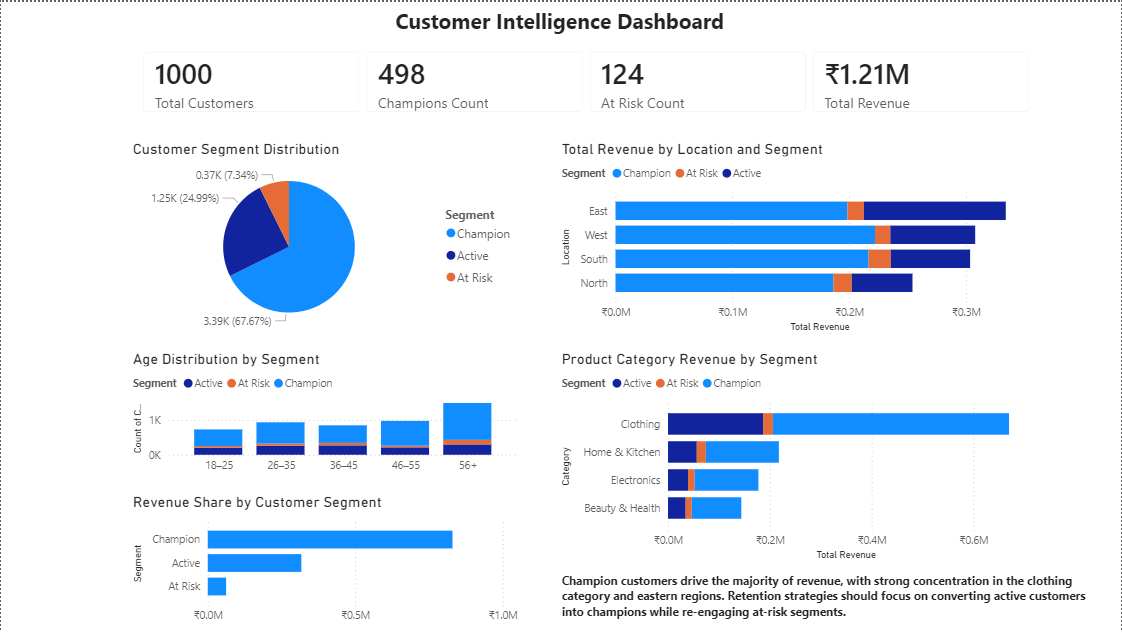

The page's visual inventory and layout, read from the dashboard file:
{"tool":"powerbi","page":{"name":"Page 1","canvas":[1280,720],"ordinal":0},"visuals":[{"type":"pieChart","title":"Customer Segment Distribution","fields":{"Category":["sales_transaction.Segment"],"Y":["CountNonNull(sales_transaction.TransactionID)"]},"box":[145.5,156.7,450.3,226.4],"z":0},{"type":"clusteredBarChart","title":"Revenue Share by Customer Segment","fields":{"Category":["sales_transaction.Segment"],"Y":["1_measure_table.Total Revenue"]},"box":[145.5,561.3,449.9,157.8],"z":1000},{"type":"columnChart","title":"Age Distribution by Segment","fields":{"Category":["customer_profiles.Age Group"],"Series":["sales_transaction.Segment"],"Y":["CountNonNull(sales_transaction.CustomerID)"]},"box":[145.5,396.8,450.3,150.5],"z":2000},{"type":"barChart","fields":{"Y":["1_measure_table.Total Revenue"],"Category":["customer_profiles.Location"],"Series":["sales_transaction.Segment"]},"box":[635.7,156.7,556,225.2],"z":3000},{"type":"barChart","title":"Product Category Revenue by Segment","fields":{"Y":["1_measure_table.Total Revenue"],"Category":["product_inventory.Category"],"Series":["sales_transaction.Segment"]},"box":[635.7,396.8,556,246.3],"z":4000},{"type":"cardVisual","fields":{"Data":["1_measure_table.Total Customers","1_measure_table.Champions Count","1_measure_table.At Risk Count","1_measure_table.Total Revenue"]},"box":[145.5,39.8,1046.2,103.2],"z":5000},{"type":"textbox","box":[635.7,646.6,636.9,73.4],"z":5001},{"type":"textbox","box":[445.3,0,388.1,43.5],"z":5002}]}

Visuals, with their boxes in screenshot pixels (x1, y1, x2, y2), scaled from the page's 1280x720 canvas onto the 1122x632 screenshot:
"Customer Segment Distribution" pieChart: 128, 138, 522, 336
"Revenue Share by Customer Segment" clusteredBarChart: 128, 493, 522, 631
"Age Distribution by Segment" columnChart: 128, 348, 522, 480
barChart - 1_measure_table.Total Revenue x customer_profiles.Location: 557, 138, 1045, 335
"Product Category Revenue by Segment" barChart: 557, 348, 1045, 564
cardVisual - 1_measure_table.Total Customers x 1_measure_table.Champions Count: 128, 35, 1045, 126
textbox: 557, 568, 1116, 631
textbox: 390, 0, 731, 38
